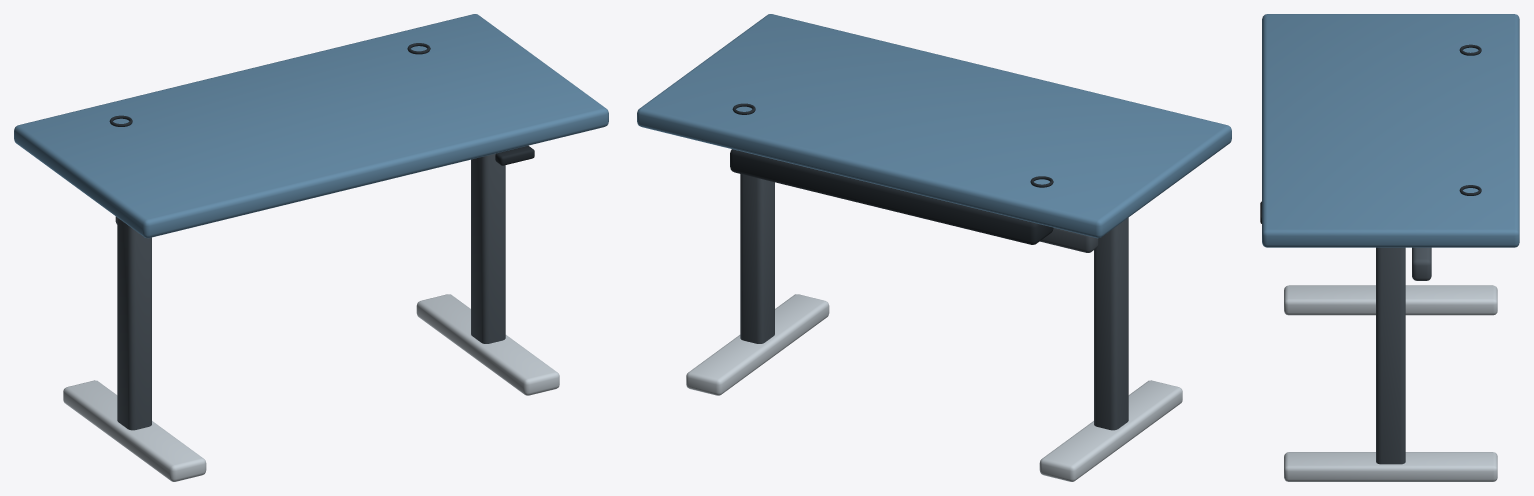
Rendered from desk.glb.
3 renders of one model, left to right at view 1: azimuth 30°, elevation 25°; view 2: azimuth 150°, elevation 25°; view 3: azimuth 270°, elevation 25°, orthographic. The views are drawn at different scales.
Visible parts, largest first — view 1: desk; view 2: desk; view 3: desk.
Part boxes in pixels (x1,y1,x2,y2): desk: [14, 14, 608, 481]; desk: [637, 14, 1231, 481]; desk: [1260, 14, 1519, 481].
Size of the model in its own units: 1.3 by 0.76 by 0.65.
